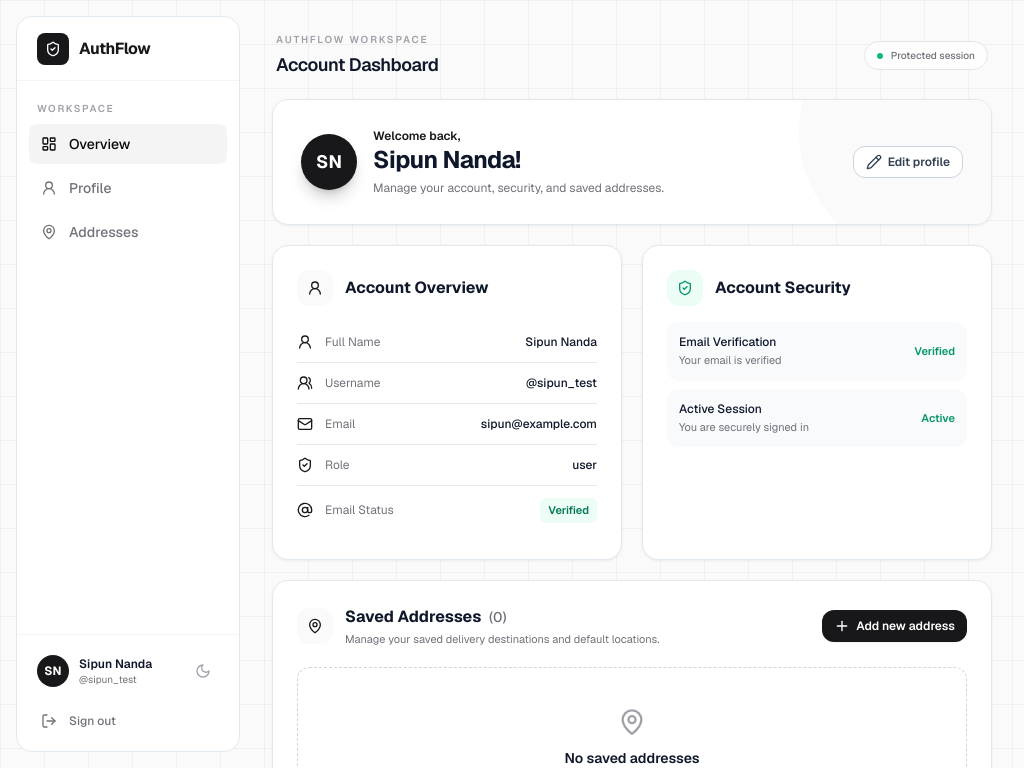
Scenario: Address Management Form Validation › restricts phone input to digits and caps at 10 digits
Click the button "Add new address": (895, 626) x1=822 y1=610 x2=967 y2=642
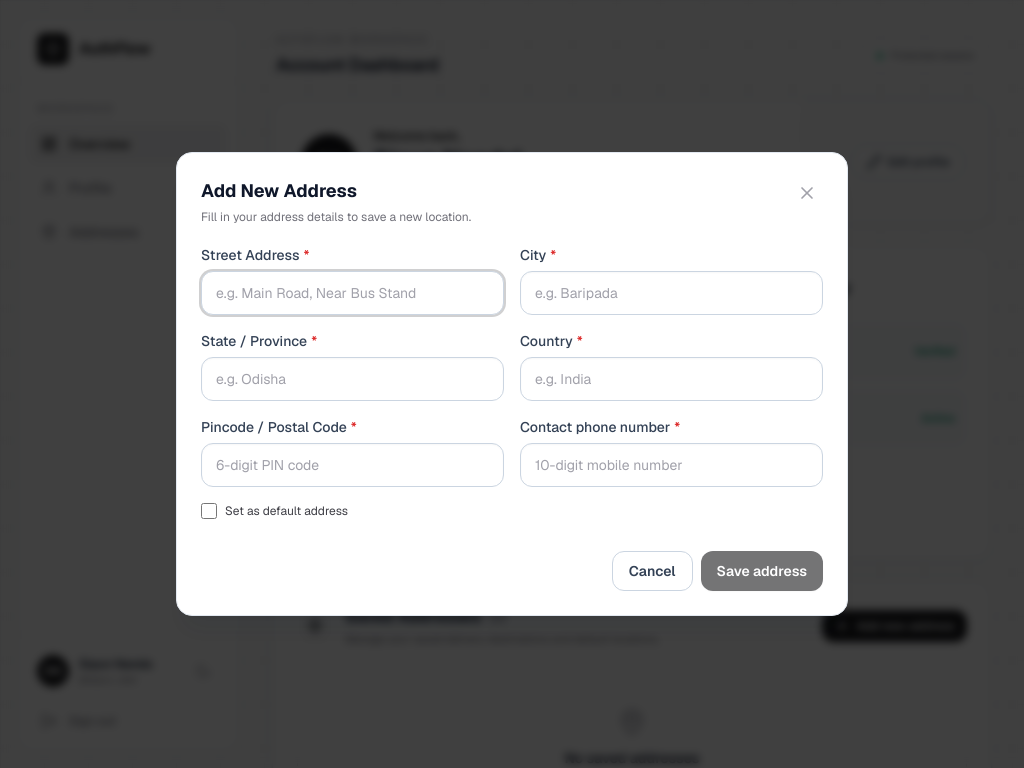
Attempt typing letters
In the field labelled "Contact phone number*": (672, 465) x1=520 y1=443 x2=823 y2=487, type "sdsdsdsds"
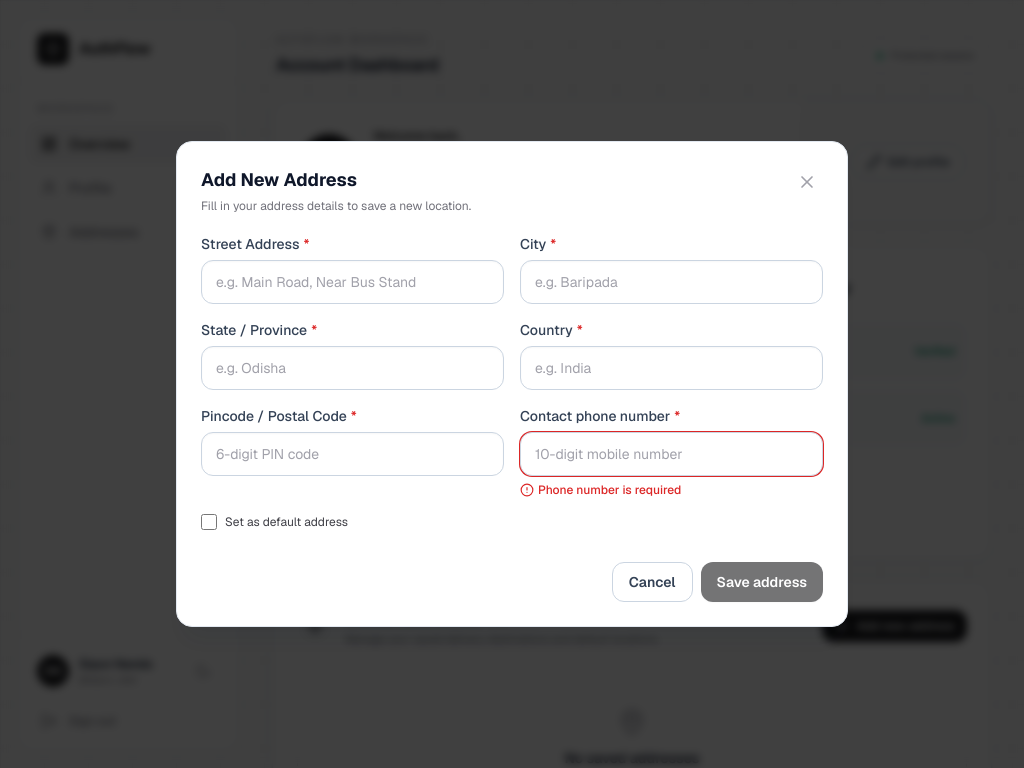
Now the field labelled "Contact phone number*" is empty
Typing digits
In the field labelled "Contact phone number*": (672, 454) x1=520 y1=432 x2=823 y2=476, type "987654321099"
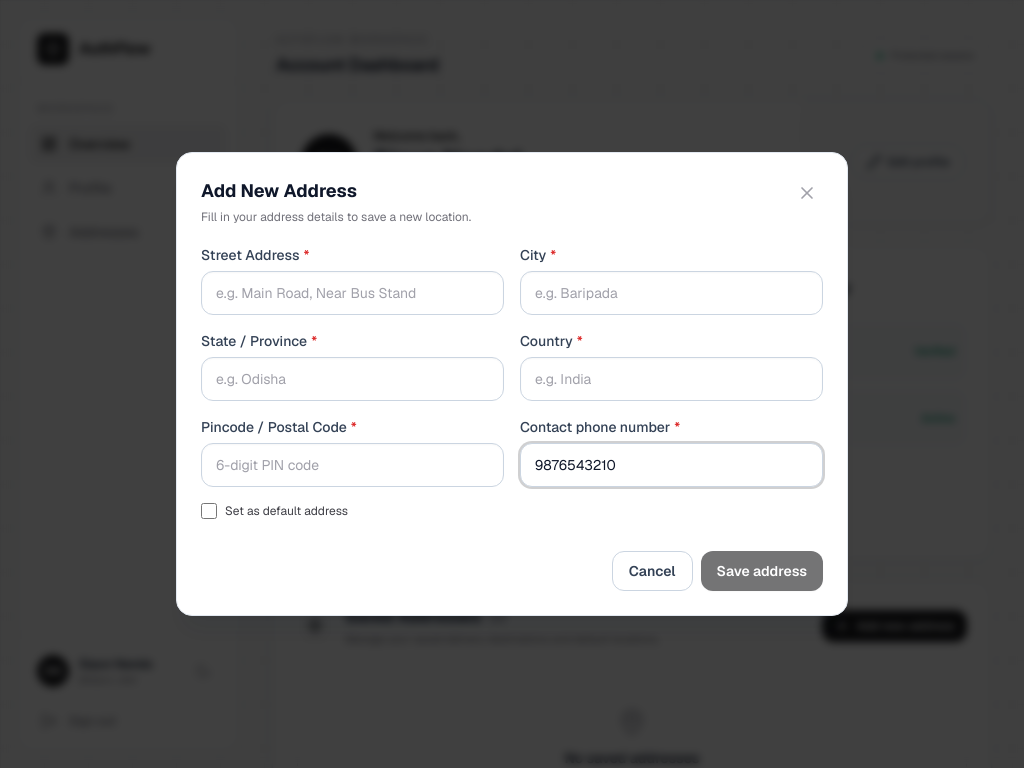
Now the field labelled "Contact phone number*" holds "9876543210", box x1=520 y1=443 x2=823 y2=487
